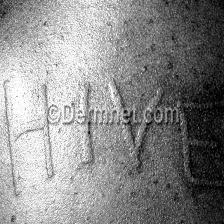Toxin: (0, 74, 54, 202)
